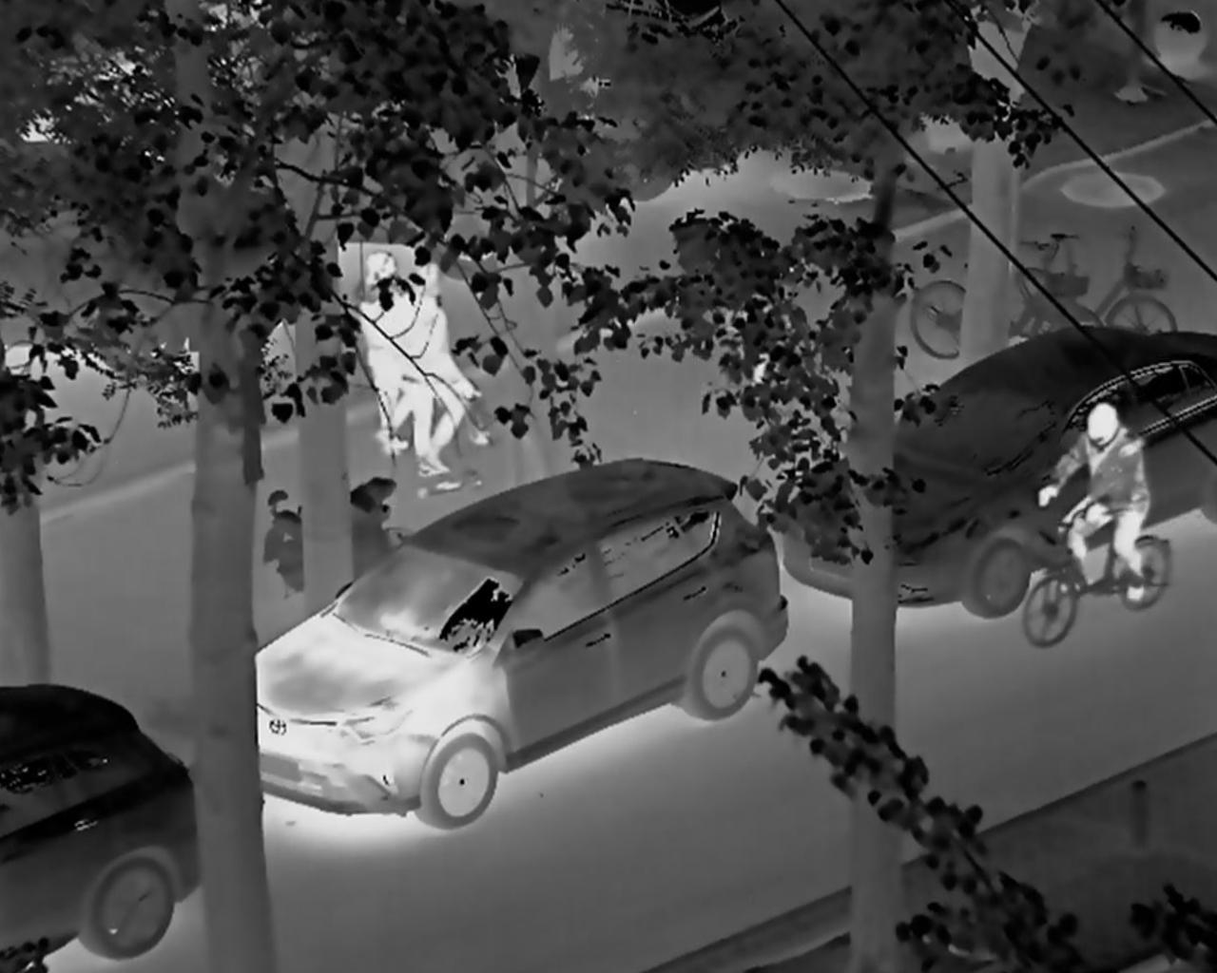person: (1022, 393, 1158, 607), (347, 244, 434, 480), (409, 258, 485, 498)
